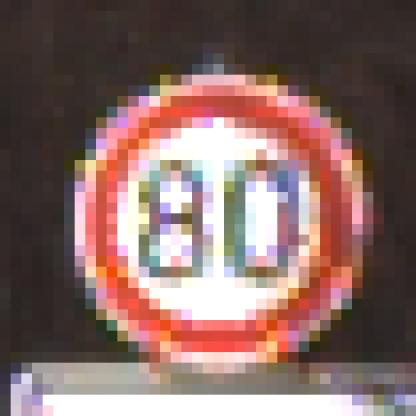Speed Limit 80: (78, 89, 353, 353)
